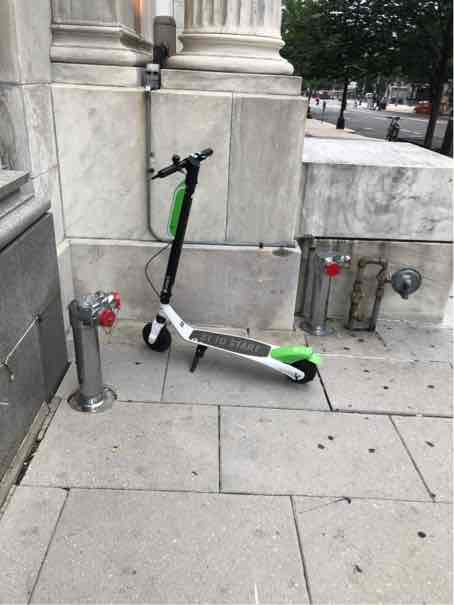scooter: (131, 138, 329, 394)
